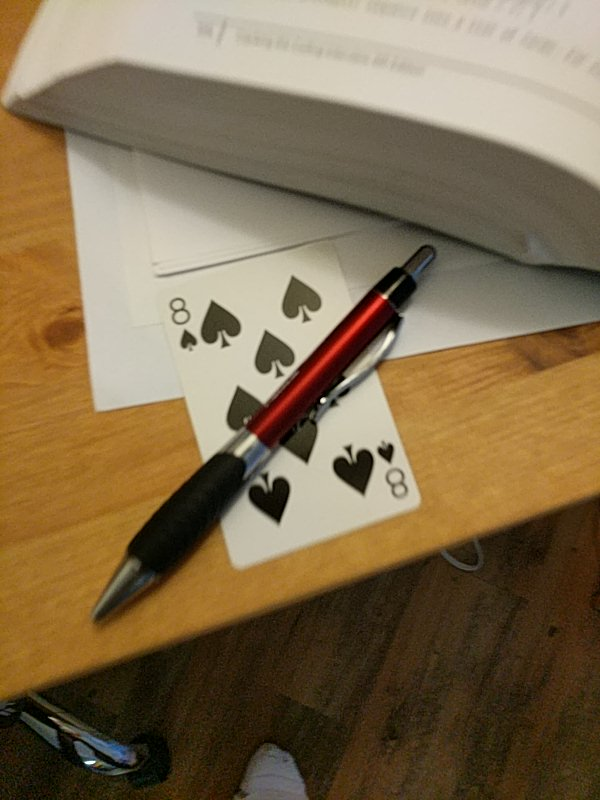Spades: (155, 242, 428, 567)
